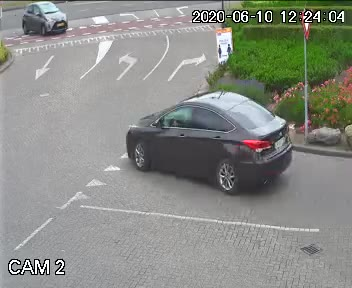car: (122, 93, 285, 201), (18, 1, 67, 37)
